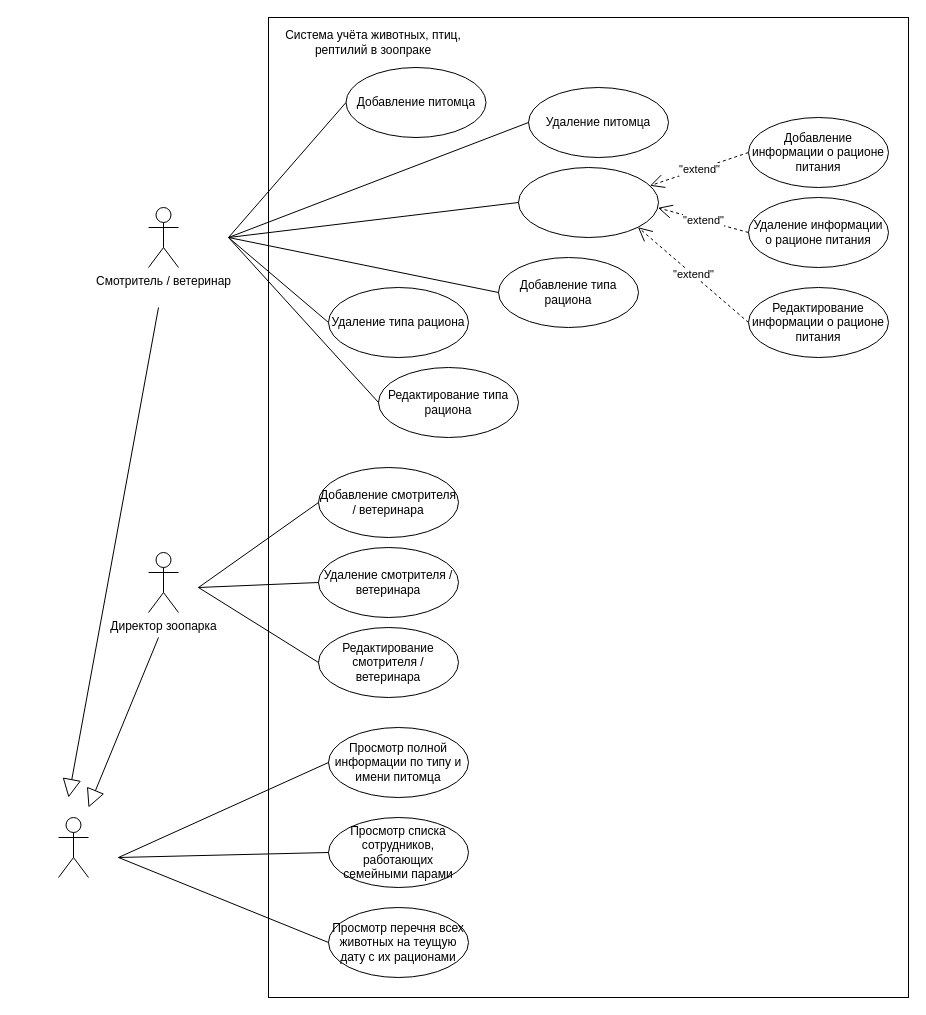
This 926x1015 diagram has some shape labels left out. Here are the shapes that lost their labels. From the top down, the centre of each, then its label:
At point (588, 202): "Редактирование питомца".
At point (73, 847): "Сотрудник зоопарка".
